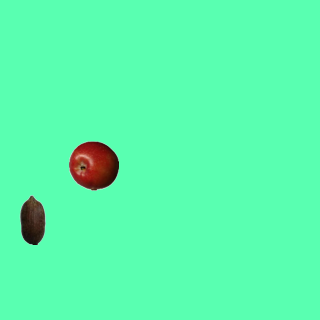Apple Braeburn: (68, 140, 118, 190)
Nut Pecan: (7, 194, 57, 244)
